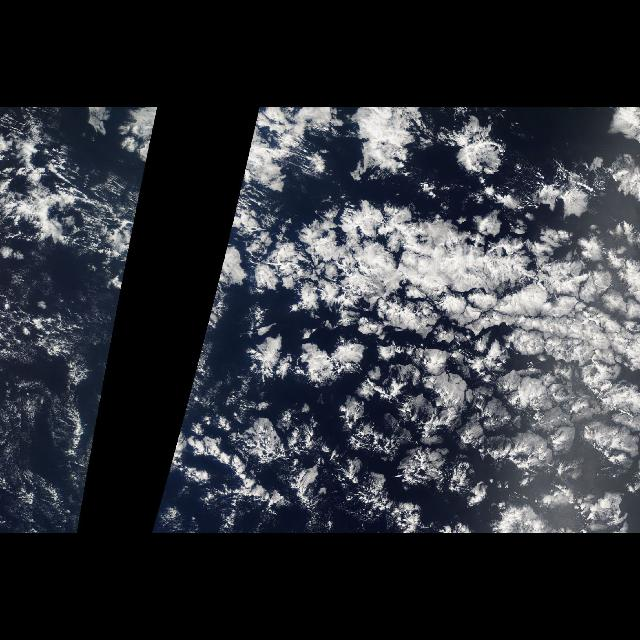Flower: (179, 194, 636, 534)
